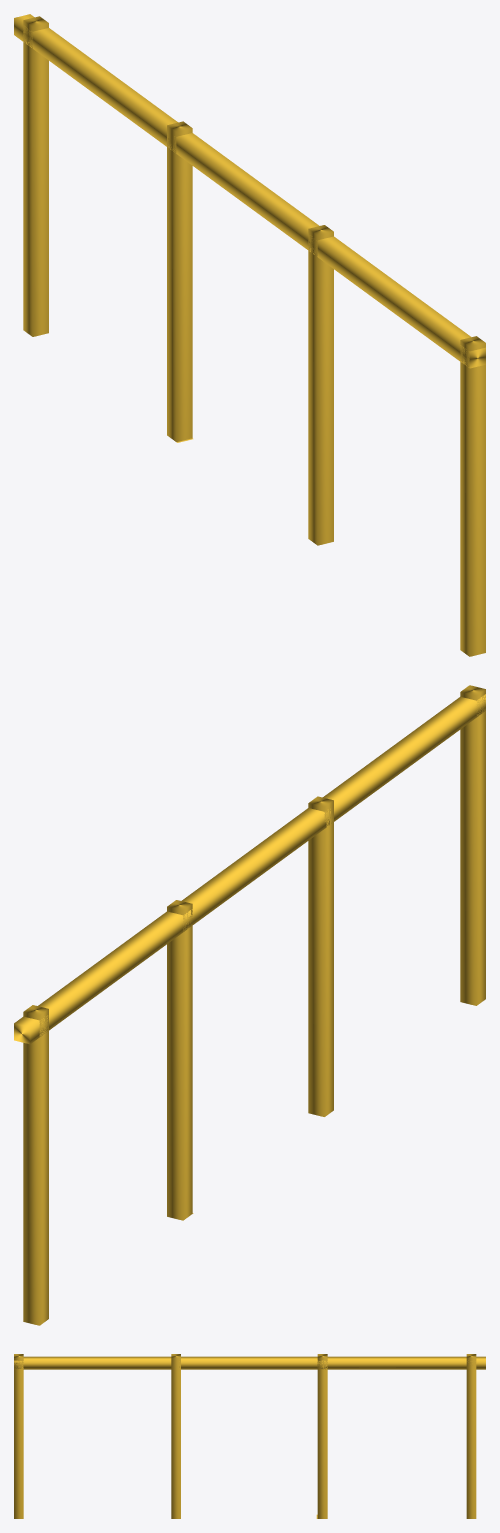
The model's file is fence_s.fbx.
3 renders of one model, top to bottom at view 1: azimuth 30°, elevation 25°; view 2: azimuth 150°, elevation 25°; view 3: azimuth 270°, elevation 25°, orthographic. The views are drawn at different scales.
Parts seen in each view (by area): view 1: fence1; view 2: fence1; view 3: fence1.
Part boxes in pixels (left/top/right/bottom): fence1: left=14, top=14, right=485, bottom=656; fence1: left=14, top=685, right=485, bottom=1325; fence1: left=14, top=1354, right=485, bottom=1518.
Size of the model in its own units: 0.0871 by 1.59 by 4.23.
